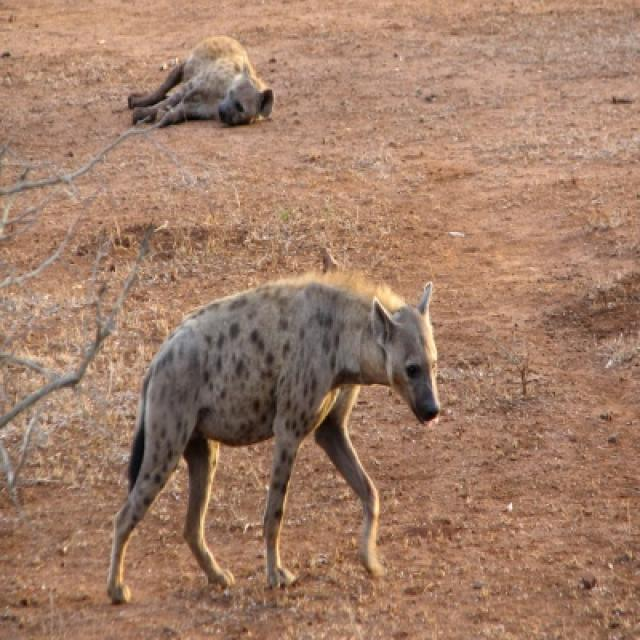hyena: (107, 272, 442, 608), (126, 35, 274, 128)
